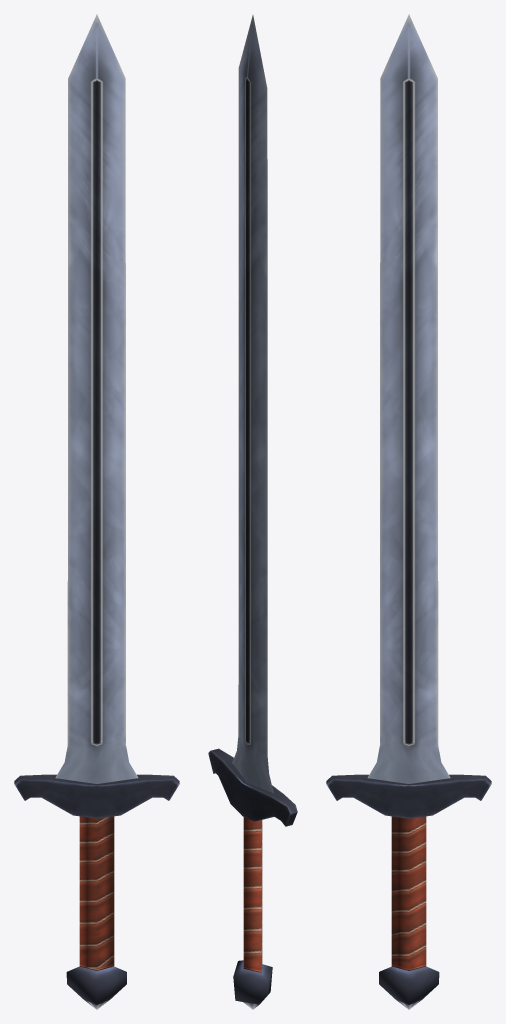
File: Sword4.FBX
3 renders of one model, left to right at view 1: azimuth 90°, elevation 25°; view 2: azimuth 210°, elevation 25°; view 3: azimuth 270°, elevation 25°, orthographic.
Parts seen in each view (by area): view 1: Sword4; view 2: Sword4; view 3: Sword4.
Part boxes in pixels (bbox=[...]): Sword4: bbox=[14, 14, 179, 1009]; Sword4: bbox=[208, 15, 297, 1009]; Sword4: bbox=[326, 14, 491, 1009].
Size of the model in its own units: 0.0645 by 1.56 by 0.234.
